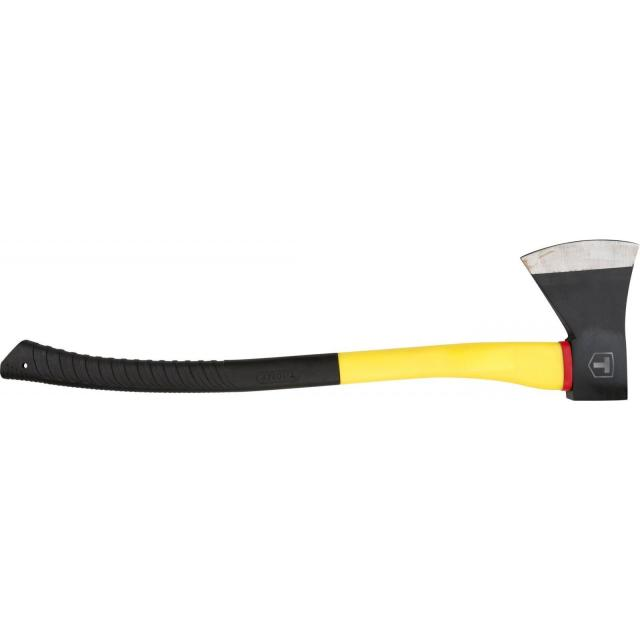Kapak: (42, 219, 640, 432)
